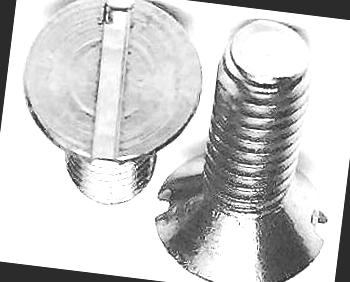slotted: (14, 0, 210, 173)
